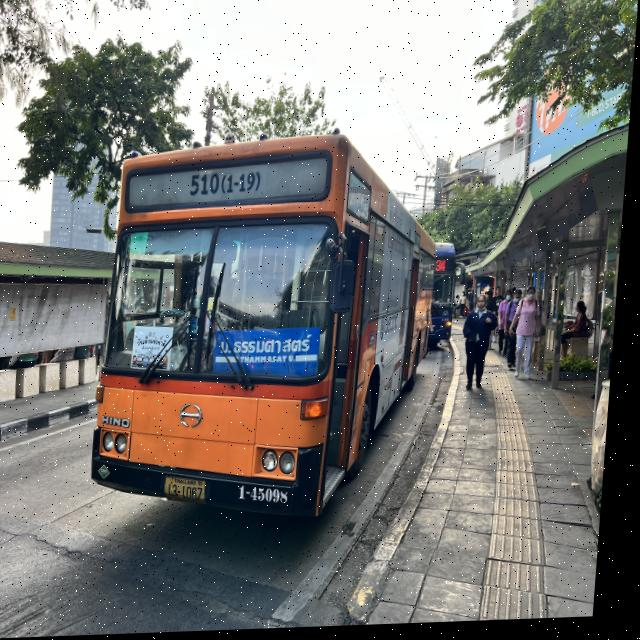BMTA-bus: (97, 137, 441, 523)
Bus Line Number: (191, 169, 267, 201)
Bus Side Number: (240, 483, 302, 513)
Destination Sign: (217, 328, 328, 382)
TSB-Bus: (436, 246, 464, 354)
